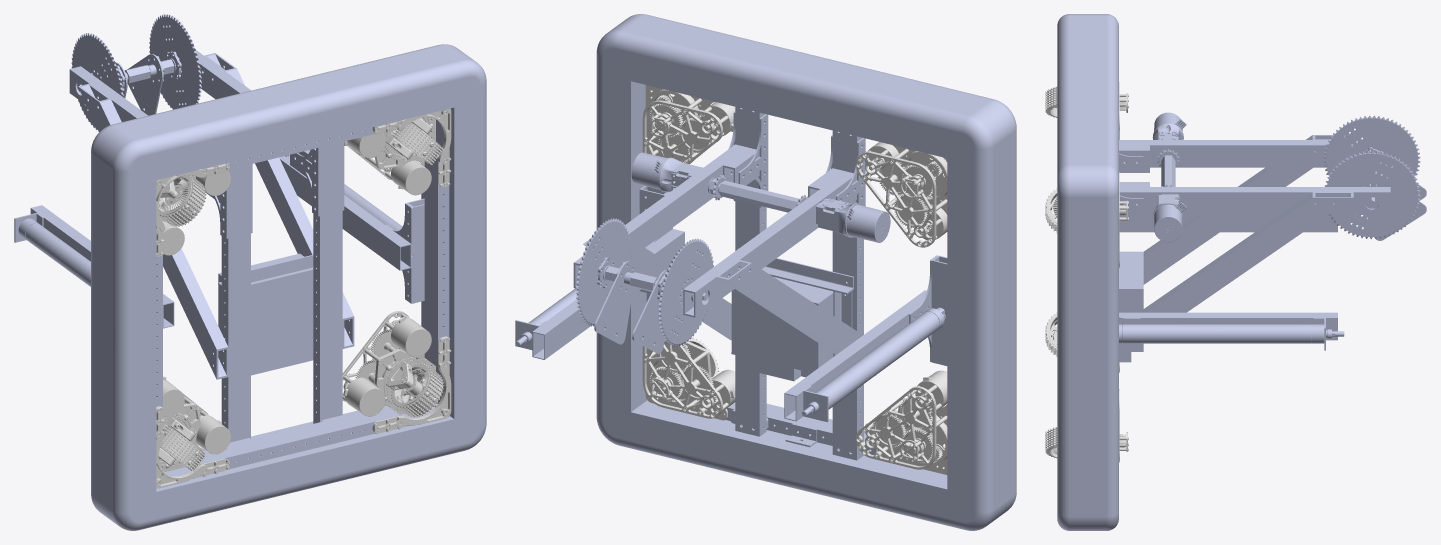
Rendered from RBT-00-00_no_arm.gltf.
3 renders of one model, left to right at view 1: azimuth 30°, elevation 25°; view 2: azimuth 150°, elevation 25°; view 3: azimuth 270°, elevation 25°, orthographic. The views are drawn at different scales.
Parts seen in each view (by area): view 1: NAUO74, NAUO75, NAUO63, NAUO76, NAUO81, NAUO69, NAUO61, NAUO64, NAUO34 (×2), NAUO65, NAUO39, NAUO68 (+14 smaller); view 2: NAUO74, NAUO75, NAUO34 (×2), NAUO62, NAUO64, NAUO69, NAUO63, NAUO61, NAUO37, NAUO81, NAUO39, NAUO76 (+18 smaller); view 3: NAUO74, NAUO75, NAUO34 (×2), NAUO38, NAUO36, NAUO37, NAUO20, NAUO39, NAUO15, NAUO16, NAUO69, NAUO54 (+6 smaller).
Part boxes in pixels (x1=…): NAUO74: x1=91, y1=44, x2=486, y2=342; NAUO75: x1=91, y1=253, x2=486, y2=530; NAUO63: x1=342, y1=311, x2=451, y2=434; NAUO76: x1=313, y1=142, x2=342, y2=423; NAUO81: x1=221, y1=164, x2=250, y2=442; NAUO69: x1=218, y1=253, x2=313, y2=363; NAUO61: x1=344, y1=108, x2=451, y2=195; NAUO64: x1=156, y1=376, x2=230, y2=488; NAUO34 (×2): x1=71, y1=14, x2=201, y2=131; NAUO65: x1=424, y1=156, x2=449, y2=367; NAUO39: x1=78, y1=83, x2=228, y2=379; NAUO68: x1=199, y1=406, x2=400, y2=469; NAUO74: x1=596, y1=14, x2=1016, y2=331; NAUO75: x1=596, y1=291, x2=1016, y2=530; NAUO34 (×2): x1=576, y1=218, x2=713, y2=346; NAUO62: x1=856, y1=142, x2=947, y2=247; NAUO64: x1=856, y1=370, x2=947, y2=474; NAUO69: x1=731, y1=277, x2=833, y2=381; NAUO63: x1=642, y1=337, x2=735, y2=420; NAUO61: x1=642, y1=85, x2=735, y2=164; NAUO37: x1=683, y1=171, x2=856, y2=317; NAUO81: x1=832, y1=130, x2=863, y2=460; NAUO39: x1=717, y1=260, x2=876, y2=375; NAUO76: x1=735, y1=106, x2=766, y2=436; NAUO74: x1=1057, y1=14, x2=1118, y2=357; NAUO75: x1=1057, y1=353, x2=1118, y2=530; NAUO34 (×2): x1=1323, y1=115, x2=1420, y2=239; NAUO38: x1=1119, y1=192, x2=1353, y2=358; NAUO36: x1=1119, y1=187, x2=1390, y2=214; NAUO37: x1=1119, y1=140, x2=1377, y2=167; NAUO20: x1=1122, y1=324, x2=1311, y2=343; NAUO39: x1=1143, y1=135, x2=1345, y2=284; NAUO15: x1=1119, y1=312, x2=1337, y2=340; NAUO16: x1=1119, y1=214, x2=1337, y2=232; NAUO69: x1=1119, y1=251, x2=1143, y2=362; NAUO54: x1=1153, y1=202, x2=1186, y2=242.
Bounding box in the file's own units: 0.8255 × 0.8255 × 0.785.
